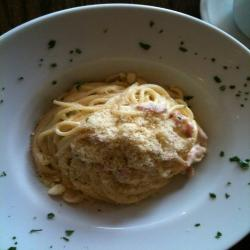carbonara: (22, 62, 214, 211)
